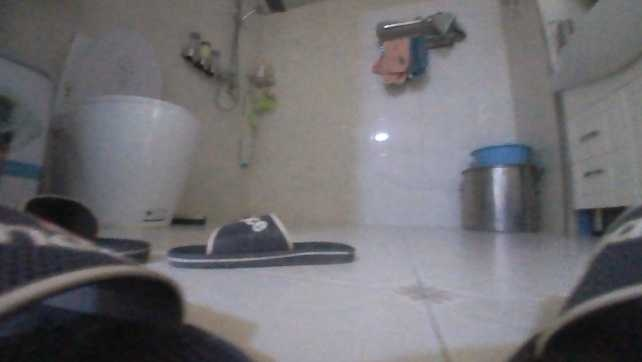slipper: (163, 211, 355, 268)
toilet: (50, 22, 199, 227)
